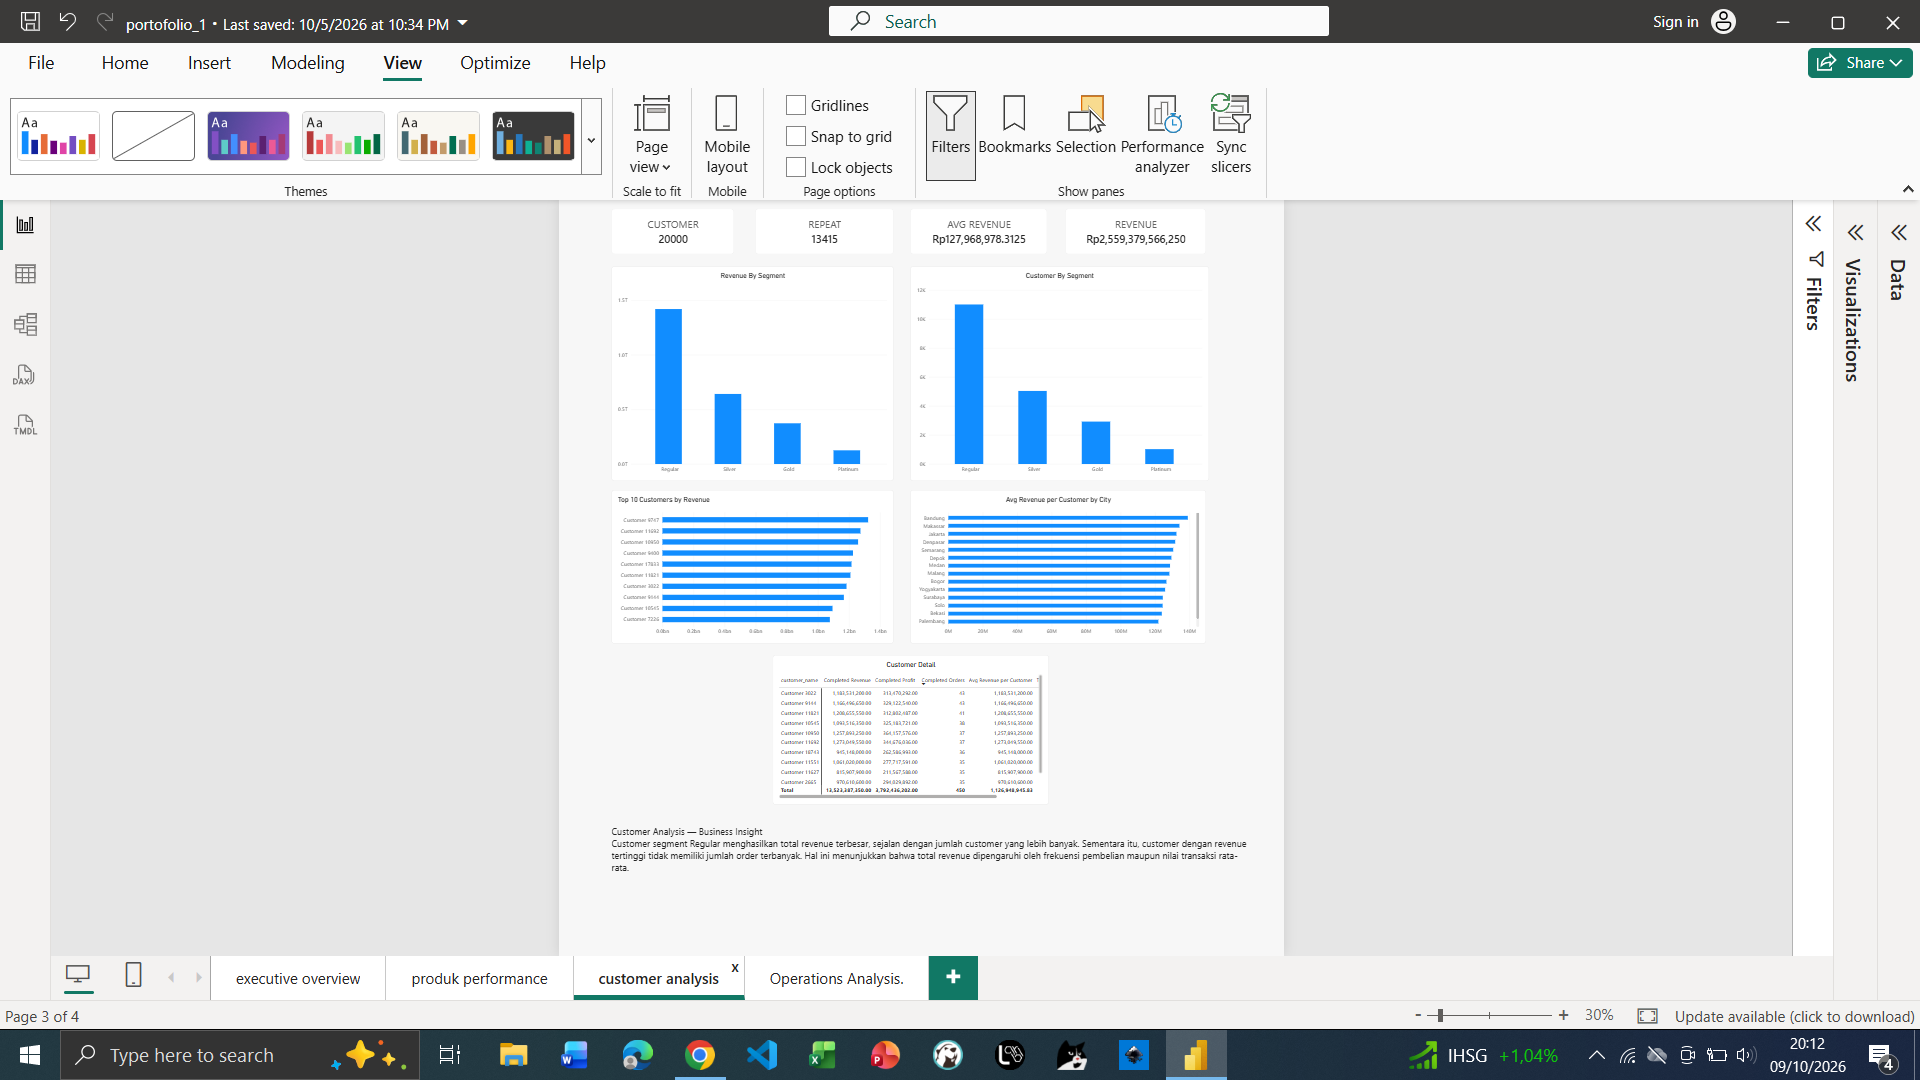

What the dashboard file says about the page in this screenshot:
{"tool":"powerbi","page":{"name":"customer analysis","canvas":[1920,2000],"ordinal":2},"visuals":[{"type":"cardVisual","fields":{"Data":["customers.Completed Customers"]},"box":[137.6,24.8,324,120],"z":0},{"type":"cardVisual","fields":{"Data":["customers.Repeat Customers"]},"box":[517.6,24.8,366,120],"z":1000},{"type":"cardVisual","fields":{"Data":["customers.Avg Revenue per Customer"]},"box":[929.6,24.8,362,120],"z":2000},{"type":"cardVisual","fields":{"Data":["order_items.Completed Revenue"]},"box":[1339.6,24.8,372,120],"z":3000},{"type":"columnChart","title":"Revenue By Segment","fields":{"Category":["customers.customer_segment"],"Y":["order_items.Completed Revenue"]},"box":[138,174,746,568],"z":4000},{"type":"columnChart","title":"Customer By Segment","fields":{"Category":["customers.customer_segment"],"Y":["customers.Completed Customers"]},"box":[930,174,790,568],"z":5000},{"type":"barChart","title":"Top 10  Customers  by Revenue","fields":{"Category":["customers.customer_name"],"Y":["order_items.Completed Revenue"]},"box":[138,768,746,406],"z":6000},{"type":"pivotTable","title":"Customer Detail","fields":{"Rows":["customers.customer_name"],"Values":["order_items.Completed Revenue","order_items.Completed Profit","order_items.Completed Orders","customers.Avg Revenue per Customer","order_items.Completed Order Count Test"]},"box":[564,1204,730,396],"z":6001},{"type":"barChart","title":"Avg Revenue per Customer by City","fields":{"Category":["customers.city"],"Y":["customers.Avg Revenue per Customer"]},"box":[930,768,782,406],"z":6002},{"type":"textbox","box":[1722,10,198,150],"z":6003},{"type":"textbox","box":[138,1652,1684,320],"z":6004}]}

Visuals, with their boxes on the page's 1920x2000 design canvas (x1, y1, x2, y2). These are canvas units, not pixel positions in the 1920x1080 screenshot, which may show the page scaled, cropped or inside an application window:
cardVisual - customers.Completed Customers: pyautogui.locateOnScreen(138, 25, 462, 145)
cardVisual - customers.Repeat Customers: pyautogui.locateOnScreen(518, 25, 884, 145)
cardVisual - customers.Avg Revenue per Customer: pyautogui.locateOnScreen(930, 25, 1292, 145)
cardVisual - order_items.Completed Revenue: pyautogui.locateOnScreen(1340, 25, 1712, 145)
"Revenue By Segment" columnChart: pyautogui.locateOnScreen(138, 174, 884, 742)
"Customer By Segment" columnChart: pyautogui.locateOnScreen(930, 174, 1720, 742)
"Top 10  Customers  by Revenue" barChart: pyautogui.locateOnScreen(138, 768, 884, 1174)
"Customer Detail" pivotTable: pyautogui.locateOnScreen(564, 1204, 1294, 1600)
"Avg Revenue per Customer by City" barChart: pyautogui.locateOnScreen(930, 768, 1712, 1174)
textbox: pyautogui.locateOnScreen(1722, 10, 1920, 160)
textbox: pyautogui.locateOnScreen(138, 1652, 1822, 1972)
